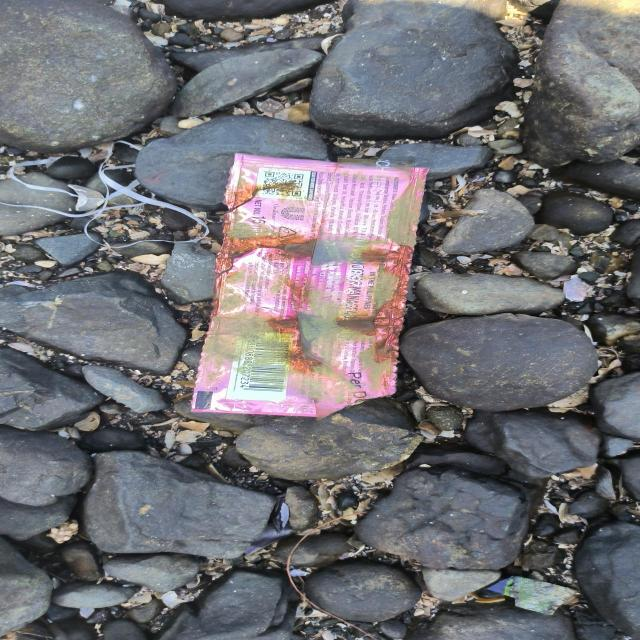plastic_waste: (189, 152, 435, 422)
